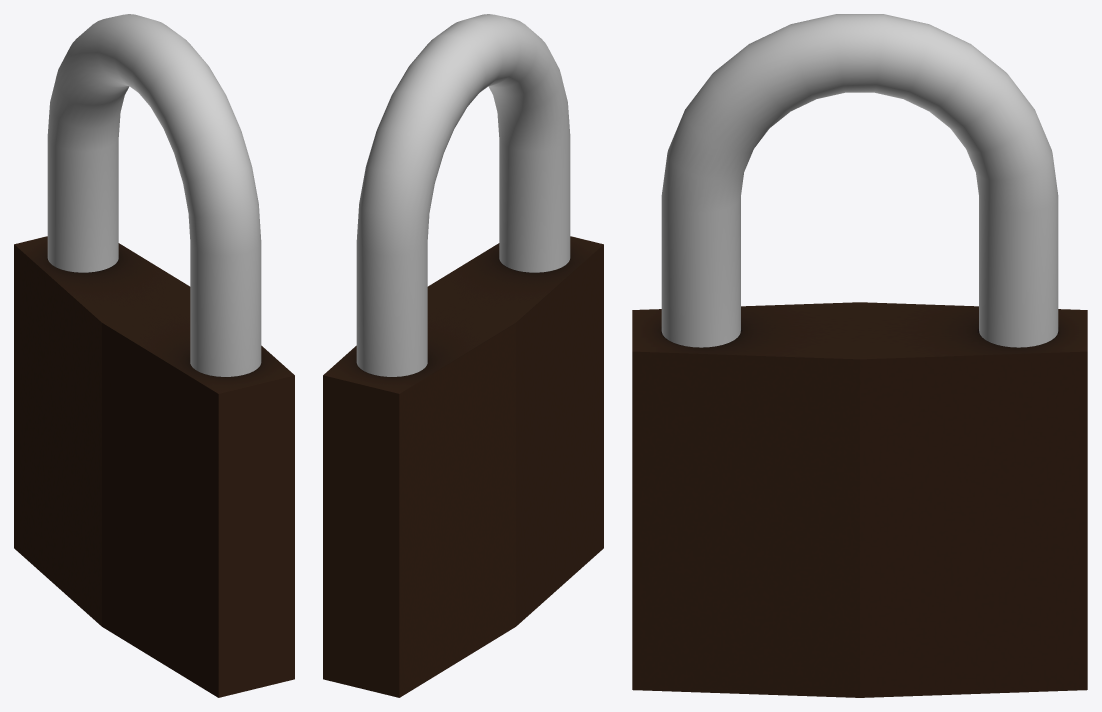
File: klodkagigant.fbx
3 renders of one model, left to right at view 1: azimuth 30°, elevation 25°; view 2: azimuth 150°, elevation 25°; view 3: azimuth 270°, elevation 25°, orthographic. The views are drawn at different scales.
Visible parts, largest first — view 1: Cylinder; view 2: Cylinder; view 3: Cylinder.
Boxes of the visible parts, box(x1,y1,x2,y2) form: Cylinder: box(14, 14, 294, 697); Cylinder: box(323, 14, 603, 697); Cylinder: box(632, 14, 1087, 697).
Size of the model in its own units: 29.81 by 160 by 100.
